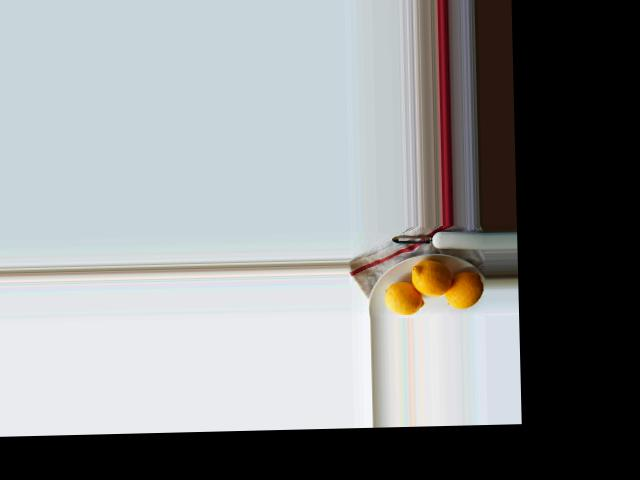lemon: (444, 274, 487, 309)
